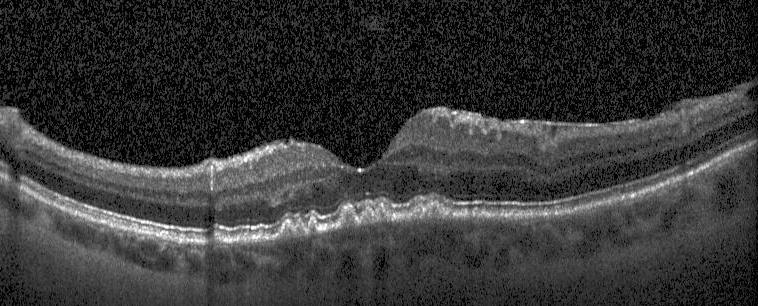retinal_drusen: (275, 222, 296, 243), (342, 207, 358, 228), (362, 208, 379, 226), (211, 235, 230, 248), (413, 206, 426, 220), (427, 204, 440, 216), (378, 208, 388, 223), (296, 222, 306, 236), (239, 233, 250, 244), (309, 220, 317, 233), (256, 238, 268, 243), (232, 240, 239, 245)
